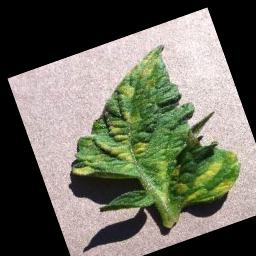Leaf_Mold: (39, 31, 250, 243)
